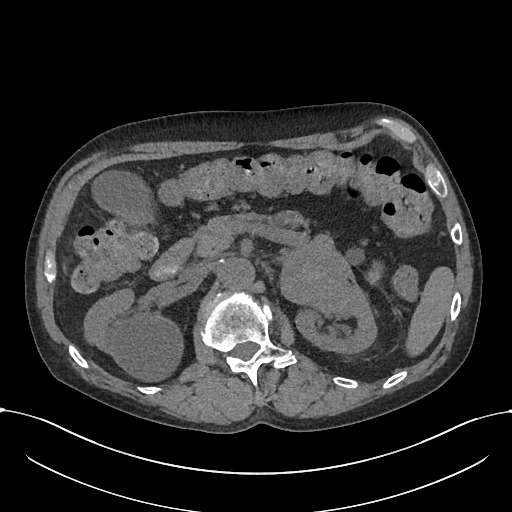Lesion: (277, 239, 358, 314)
